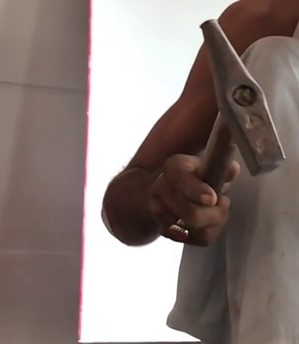hammer: (180, 16, 287, 253)
